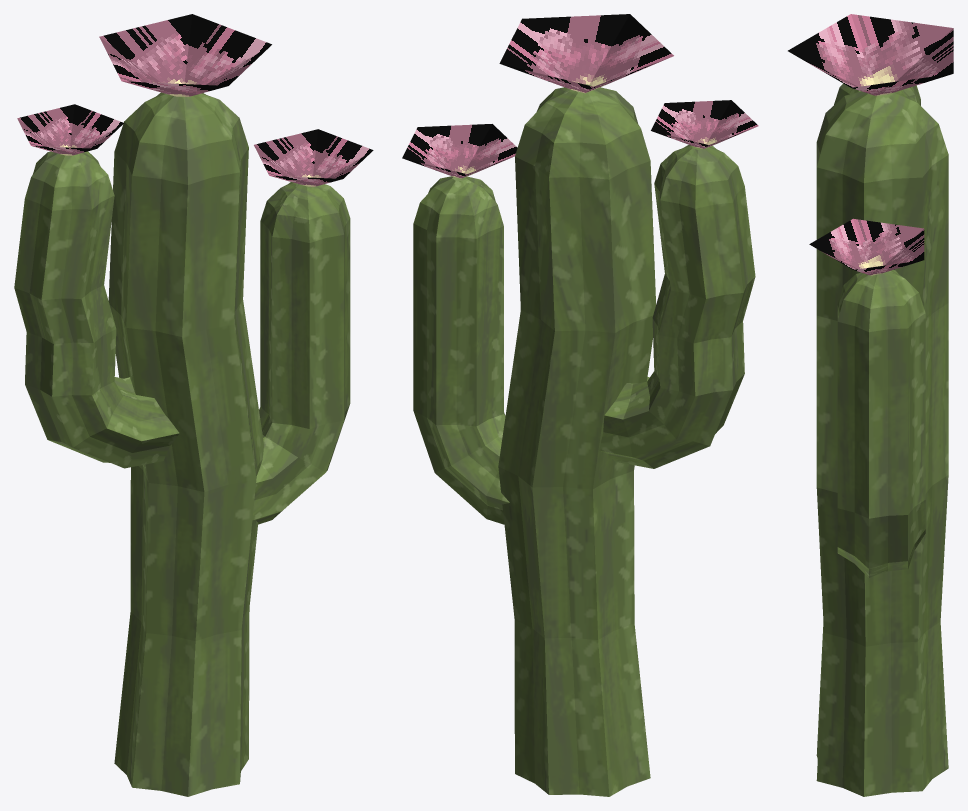
Rendered from Cactus.fbx.
The picture shows the model from 3 angles, left to right: view 1: azimuth 30°, elevation 25°; view 2: azimuth 150°, elevation 25°; view 3: azimuth 270°, elevation 25°; orthographic projection.
Parts seen in each view (by area): view 1: Cylinder, Cone, Cone.001, Cone.002; view 2: Cylinder, Cone, Cone.001, Cone.002; view 3: Cylinder, Cone, Cone.001.
Boxes of the visible parts, x1,y1,x2,y2 form: Cylinder: [14, 92, 350, 796]; Cone: [99, 14, 271, 96]; Cone.001: [254, 129, 373, 186]; Cone.002: [17, 104, 123, 155]; Cylinder: [413, 84, 755, 796]; Cone: [499, 14, 673, 93]; Cone.001: [402, 124, 517, 178]; Cone.002: [651, 100, 758, 148]; Cylinder: [816, 83, 948, 796]; Cone: [788, 14, 953, 95]; Cone.001: [809, 218, 924, 275].
Bounding box in the file's own units: 570 × 1141 × 240.
